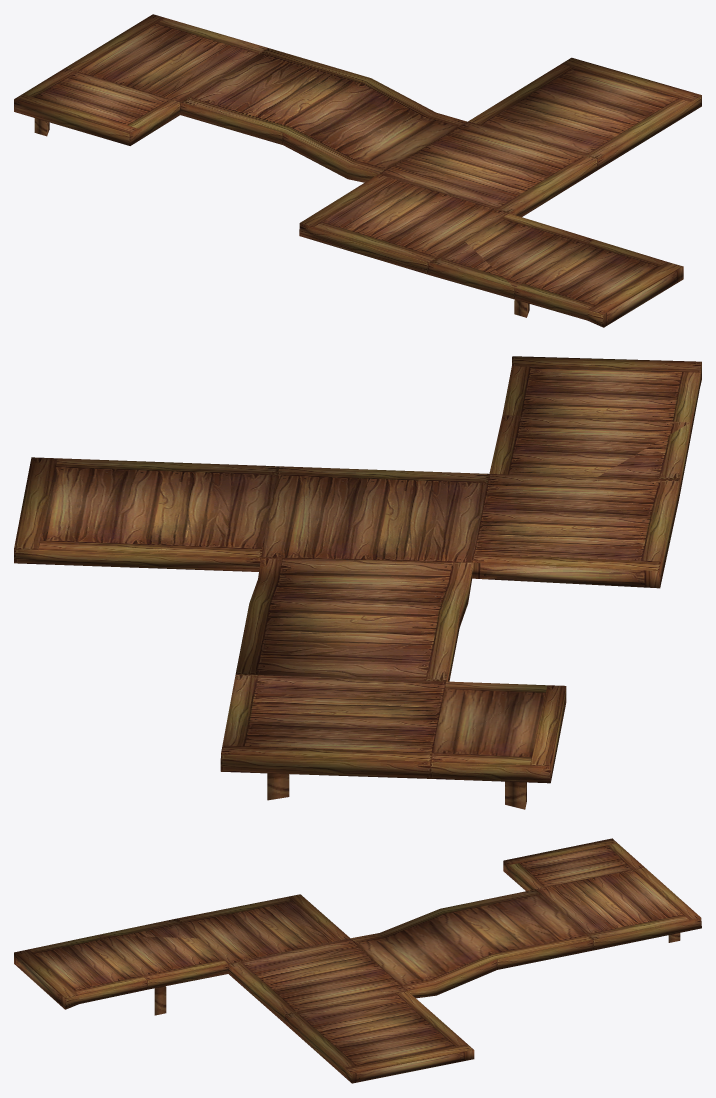
File: environment_common_ranbujia_001_e.FBX
3 renders of one model, top to bottom at view 1: azimuth 30°, elevation 25°; view 2: azimuth 150°, elevation 25°; view 3: azimuth 270°, elevation 25°, orthographic. The views are drawn at different scales.
Parts seen in each view (by area): view 1: environment_common_ranbujia_001_a; view 2: environment_common_ranbujia_001_a; view 3: environment_common_ranbujia_001_a.
Part boxes in pixels (x1,y1,x2,y2): environment_common_ranbujia_001_a: [14, 14, 701, 327]; environment_common_ranbujia_001_a: [14, 356, 701, 809]; environment_common_ranbujia_001_a: [14, 838, 701, 1083].
Size of the model in its own units: 174 by 19.66 by 227.
